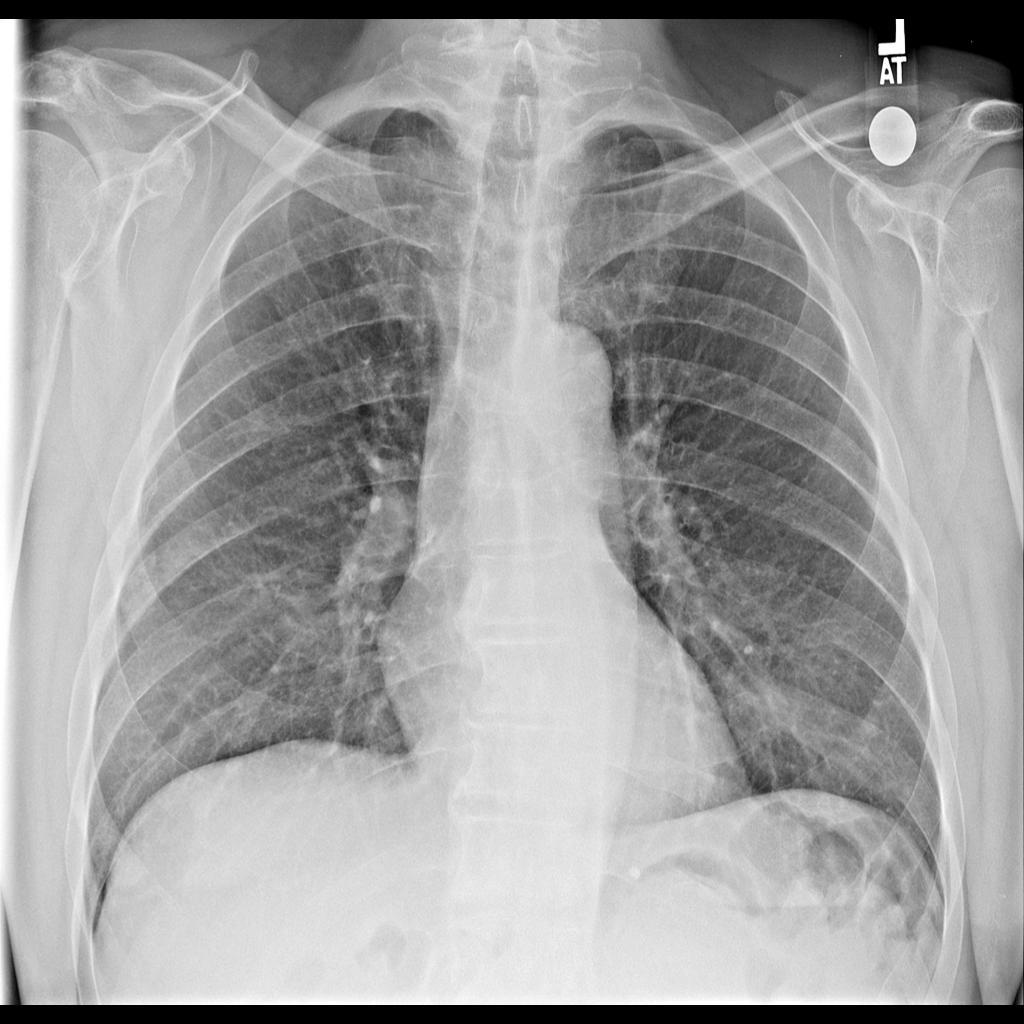Nodule: (861, 717, 881, 739)
